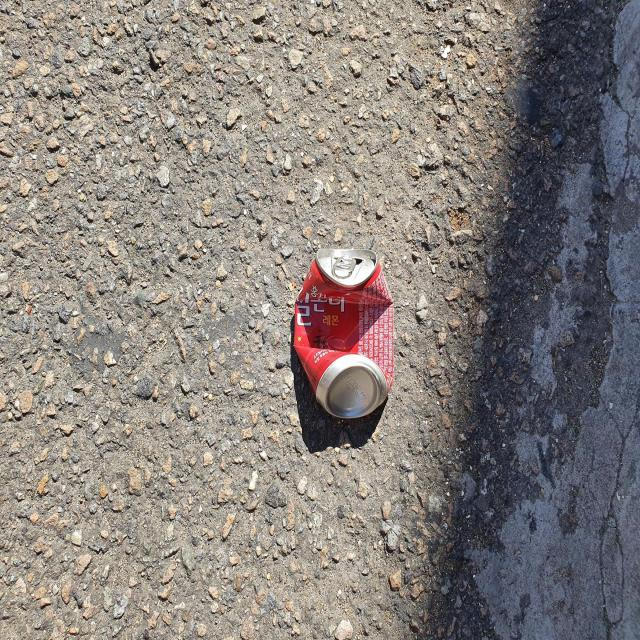can: (294, 248, 394, 418)
